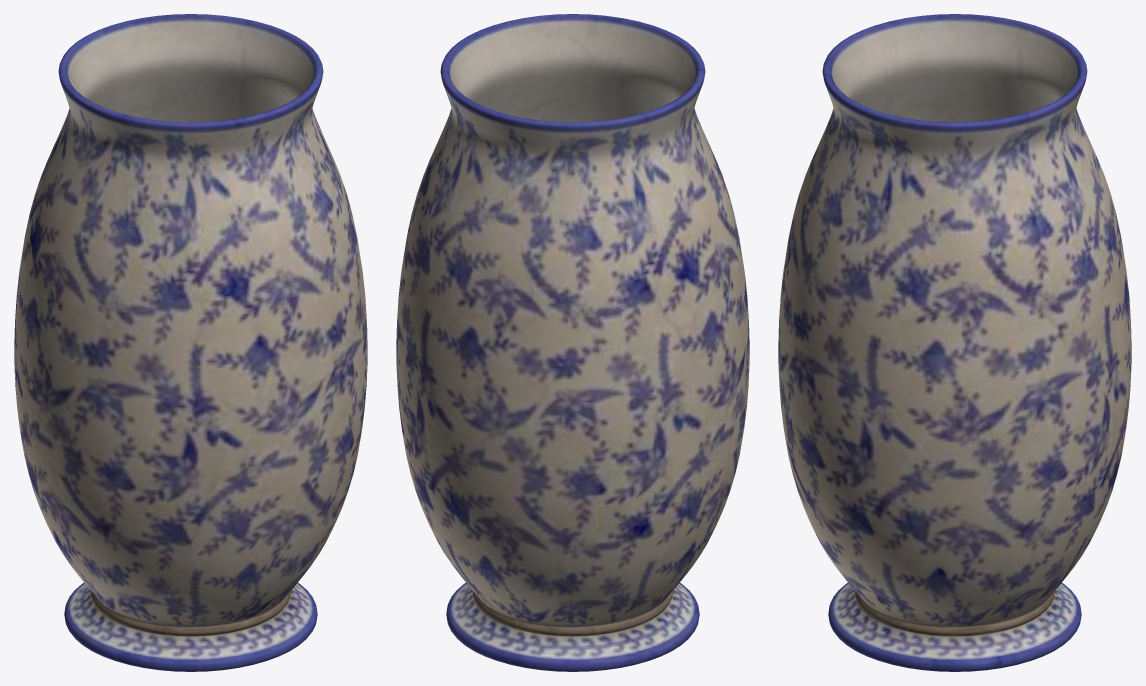
Rendered from antique_ceramic_vase_01.glb.
3 views of the same model, side by side, from view 1: azimuth 30°, elevation 25°; view 2: azimuth 150°, elevation 25°; view 3: azimuth 270°, elevation 25° (orthographic).
Parts seen in each view (by area): view 1: antique_ceramic_vase_01; view 2: antique_ceramic_vase_01; view 3: antique_ceramic_vase_01.
Boxes of the visible parts, x1,y1,x2,y2 form: antique_ceramic_vase_01: (14, 14, 367, 671); antique_ceramic_vase_01: (396, 14, 749, 671); antique_ceramic_vase_01: (778, 14, 1131, 671).
Size of the model in its own units: 0.255 by 0.4396 by 0.255.
1 material, 1 textured.
